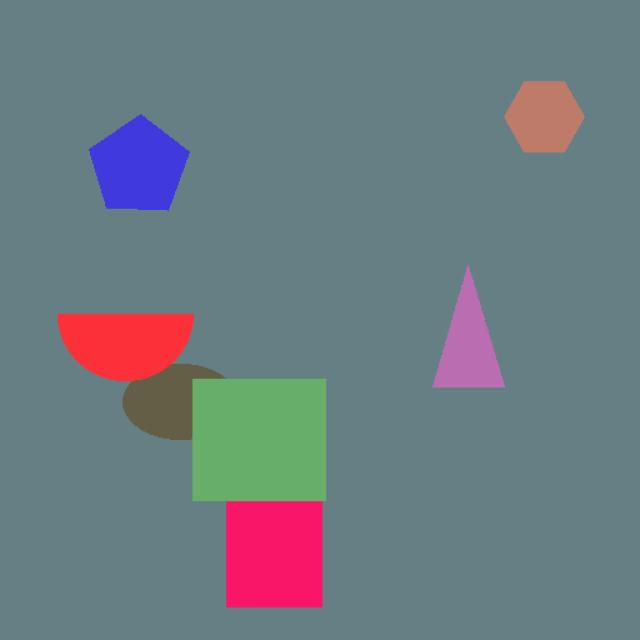Hexagon: (481, 61, 626, 185)
Oval: (121, 340, 275, 466)
Pentagon: (78, 96, 221, 229)
Semicircle: (36, 289, 206, 390)
Triangle: (408, 236, 508, 414)
square: (167, 364, 347, 522), (204, 471, 350, 624)
